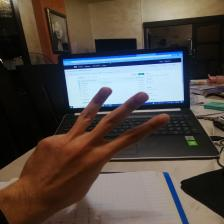five: (31, 84, 174, 204)
